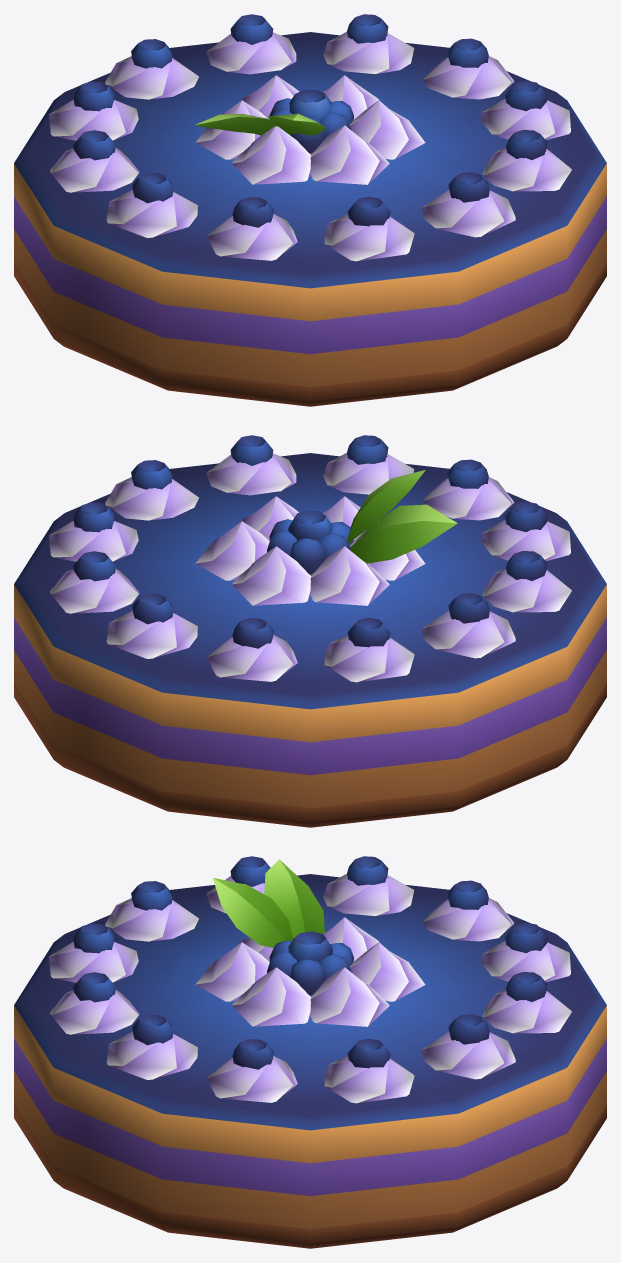
File: m_BlueberryCake01.fbx
3 views of the same model, one above another, from view 1: azimuth 30°, elevation 25°; view 2: azimuth 150°, elevation 25°; view 3: azimuth 270°, elevation 25° (orthographic).
Parts seen in each view (by area): view 1: m_BlueberryCake01; view 2: m_BlueberryCake01; view 3: m_BlueberryCake01.
Part boxes in pixels (left/top/right/bottom): m_BlueberryCake01: left=14, top=14, right=606, bottom=406; m_BlueberryCake01: left=14, top=435, right=606, bottom=827; m_BlueberryCake01: left=14, top=856, right=606, bottom=1248.
Size of the model in its own units: 28 by 11.36 by 28.
